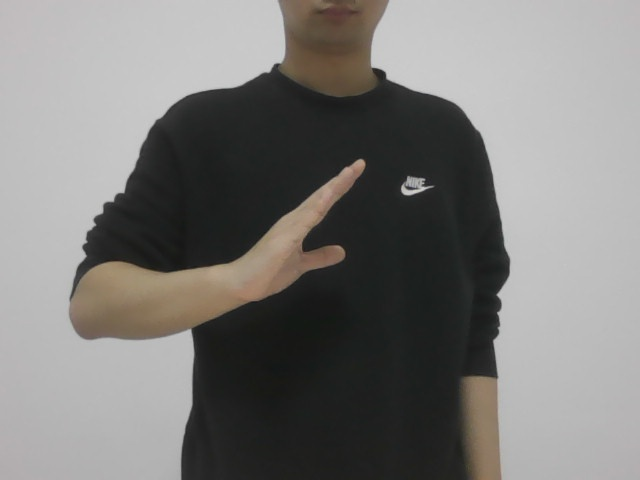morning: (223, 158, 377, 295)
